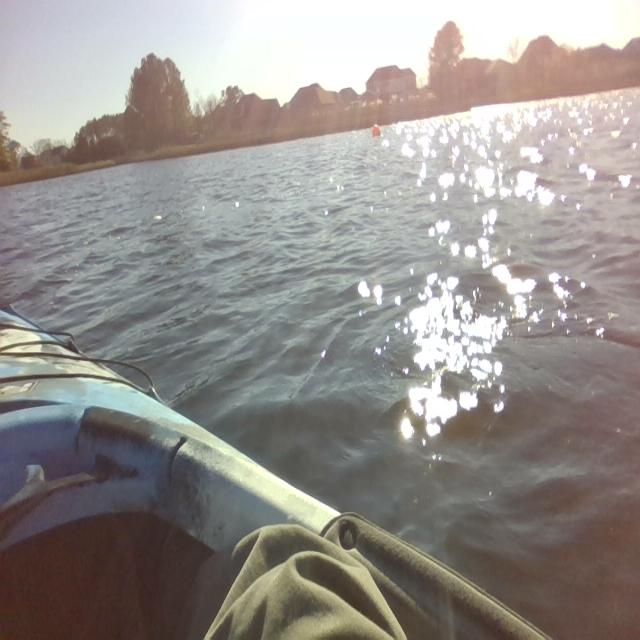Buoy: (368, 119, 385, 144)
